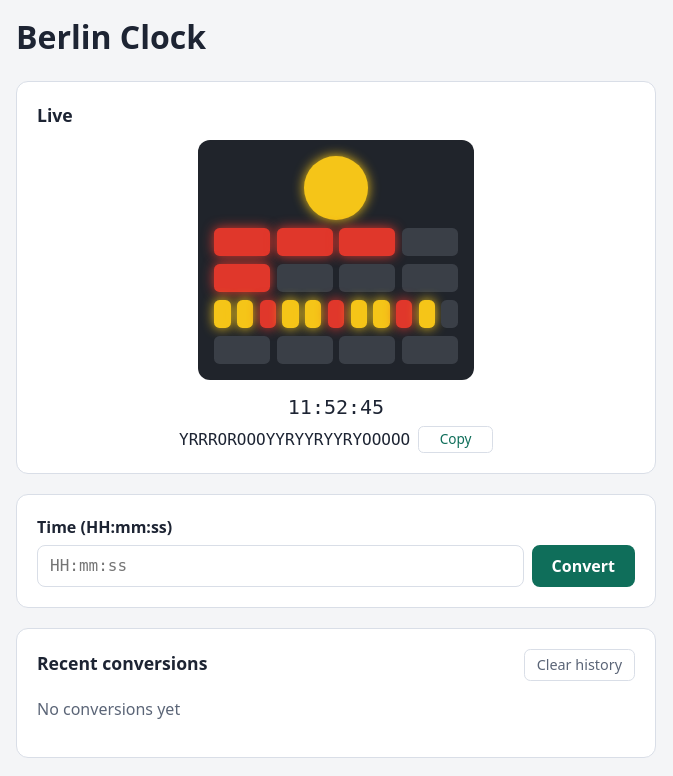
Converting a time › shows the entire clock as an image labelled with its time, and as its 24-character code
Type "16:50:06" into the field labelled "Time (HH:mm:ss)" at (280, 566), box x1=37 y1=545 x2=524 y2=587
Then press Enter
(page scrolled)
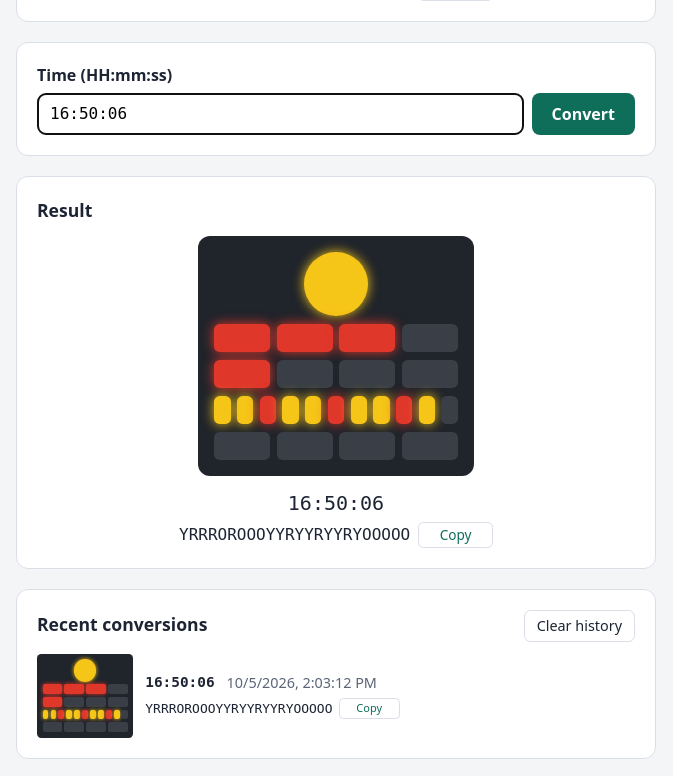
Expected: the picture named "Berlin Clock showing 16:50:06" below "Result" is shown, x1=198 y1=236 x2=474 y2=476
Expected: the text "YRRROROOOYYRYYRYYRYOOOOO" below "Result" is shown, x1=179 y1=525 x2=410 y2=544
